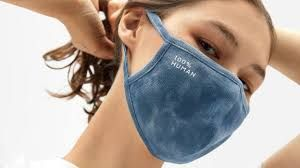with-mask: (110, 1, 276, 165)
